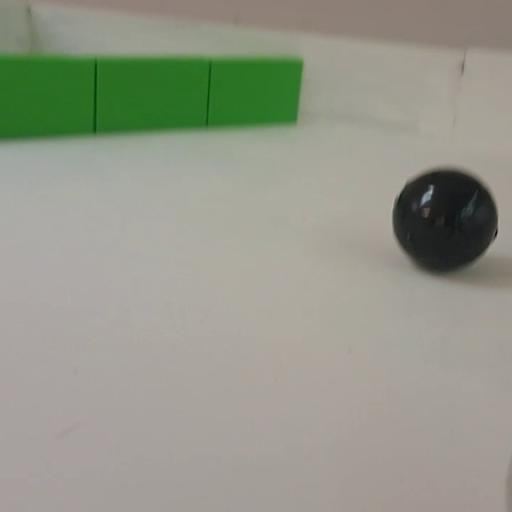dead: (395, 170, 497, 276)
